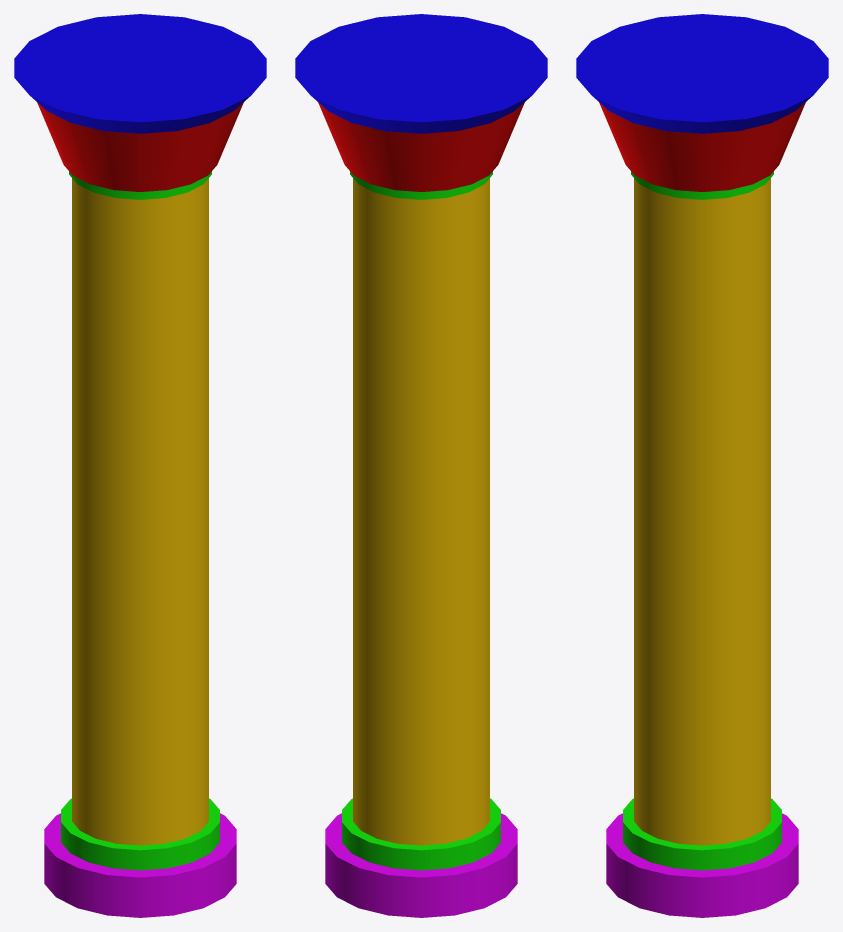
The model's file is colone2.FBX.
The picture shows the model from 3 angles, left to right: view 1: azimuth 30°, elevation 25°; view 2: azimuth 150°, elevation 25°; view 3: azimuth 270°, elevation 25°; orthographic projection.
Parts seen in each view (by area): view 1: Cylinder005; view 2: Cylinder005; view 3: Cylinder005.
Part boxes in pixels (x1,y1,x2,y2): Cylinder005: (14, 14, 266, 917); Cylinder005: (295, 14, 547, 917); Cylinder005: (576, 14, 828, 917).
Bounding box in the file's own units: 91.99 × 320 × 90.59.
